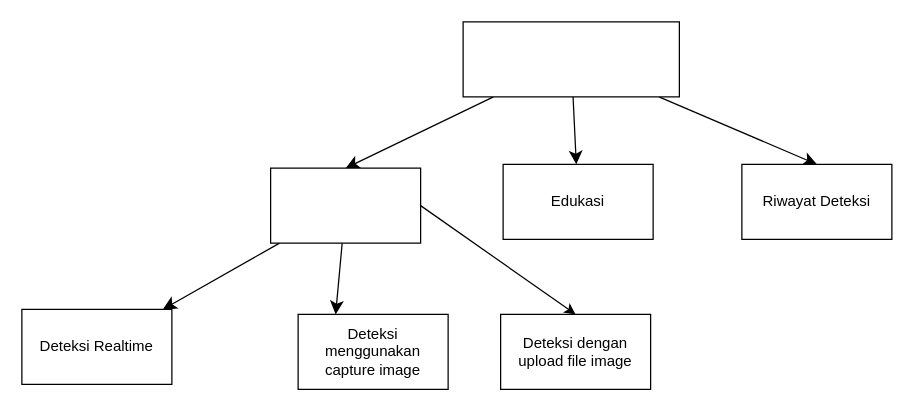
Some shapes in this 914 by 411 pixel diagram are drawn without their labels. The shapes that lost their labels are listed below. From the top down, each one's box as (x1, y1, x2, y2) in pixels, then its label:
(462, 21, 679, 97): Aplikasi Deteksi Jenis Bola
(269, 167, 421, 243): Home
